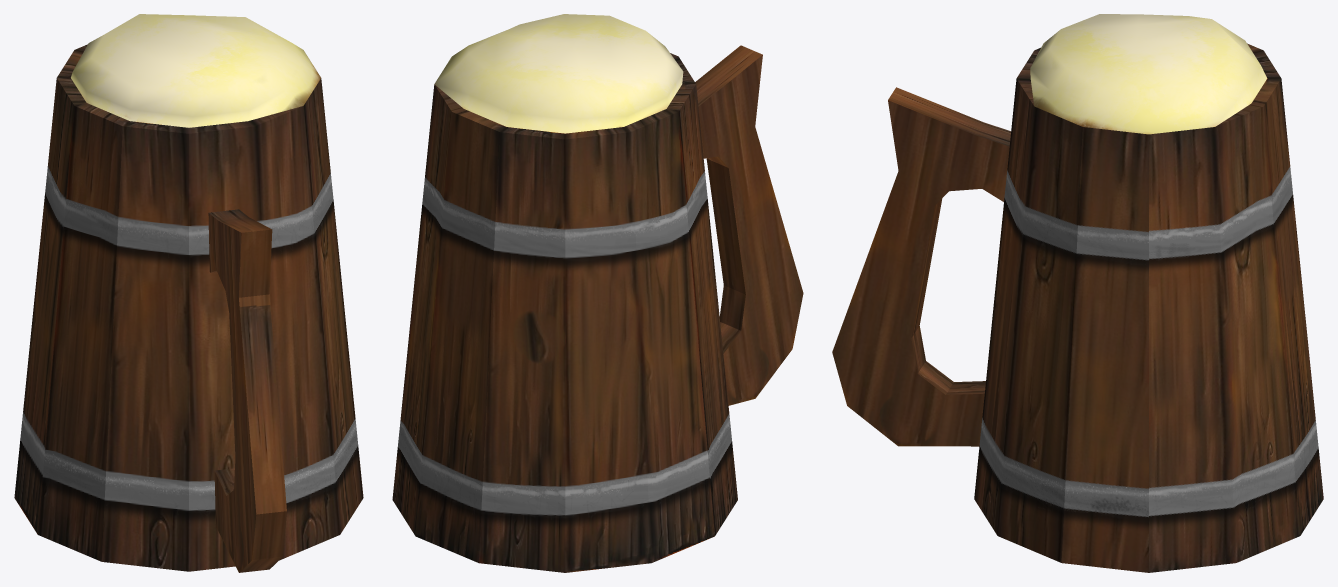
The model's file is BeerChop.fbx.
3 renders of one model, left to right at view 1: azimuth 30°, elevation 25°; view 2: azimuth 150°, elevation 25°; view 3: azimuth 270°, elevation 25°, orthographic.
Visible parts, largest first — view 1: Beer; view 2: Beer; view 3: Beer.
Boxes of the visible parts, <box> form: Beer: <box>14,14,363,572</box>; Beer: <box>392,14,803,572</box>; Beer: <box>832,14,1323,572</box>.
Bounding box in the file's own units: 22 × 31.8 × 30.93.
